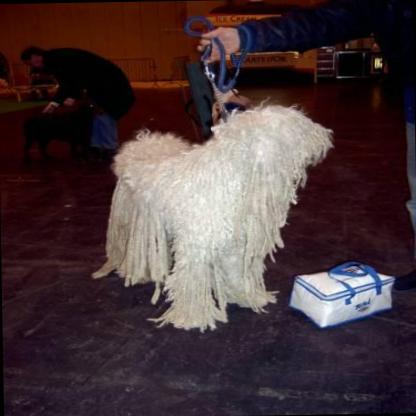komondor: (77, 97, 340, 330)
